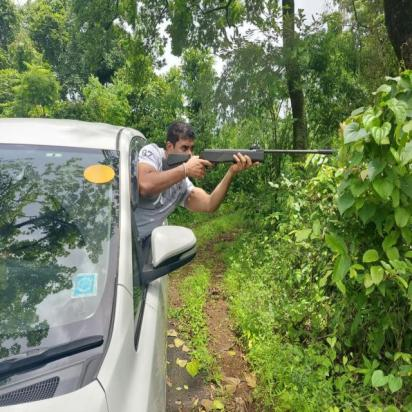Gun: (158, 144, 337, 174)
